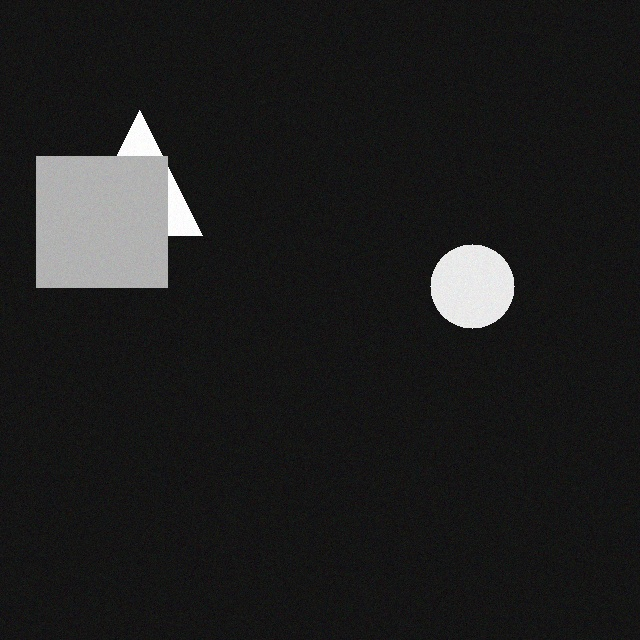circle: (420, 238, 504, 322)
square: (26, 150, 157, 281)
triangle: (67, 104, 192, 229)
